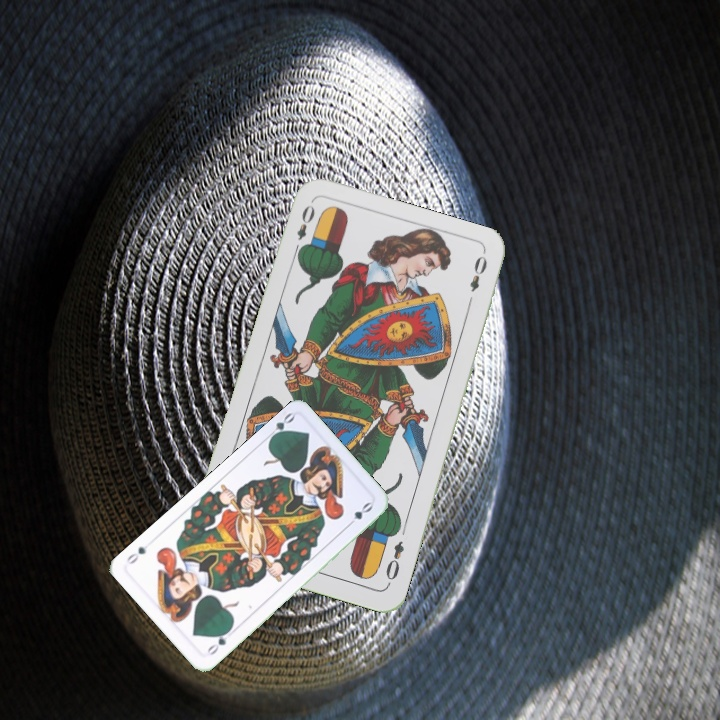EO: (289, 201, 318, 258), (381, 537, 407, 588)
GO: (262, 409, 297, 443), (202, 625, 234, 658)
